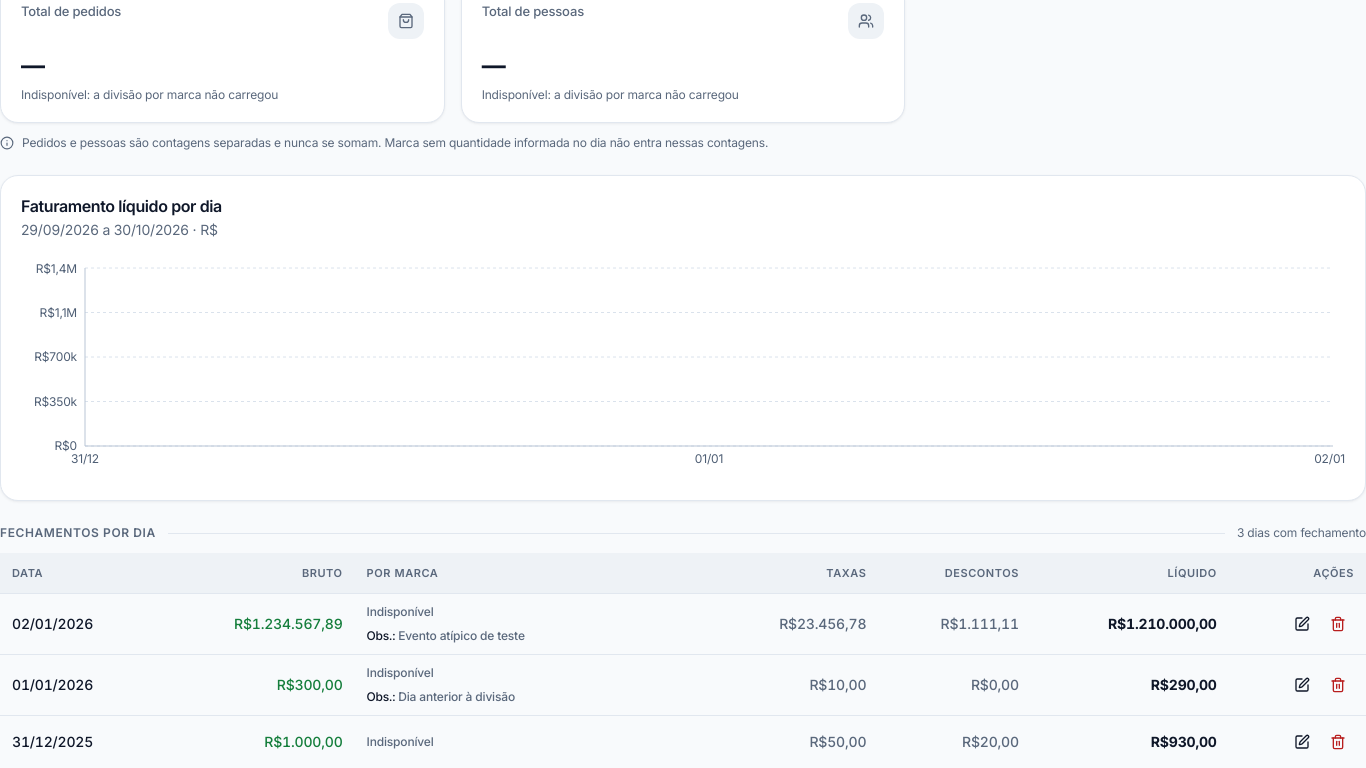
Test: Fechamento de Caixa (V2) › divisão por marca indisponível: pedidos e pessoas viram "—", nunca zero
(page scrolled)
Expected: the text "—" is shown 2 times, left=21, top=51, right=44, bottom=80; left=482, top=51, right=505, bottom=80
Expected: the text "Indisponível: a divisão por marca não carregou" is shown 2 times, left=21, top=87, right=278, bottom=102; left=482, top=87, right=739, bottom=102
Note: Edição nesse estado avisa que salvar regravaria o dia sem o detalhamento (PF-105).
Click the button named "Editar fechamento de 01/01/2026": (1302, 684) left=1286, top=668, right=1318, bottom=700
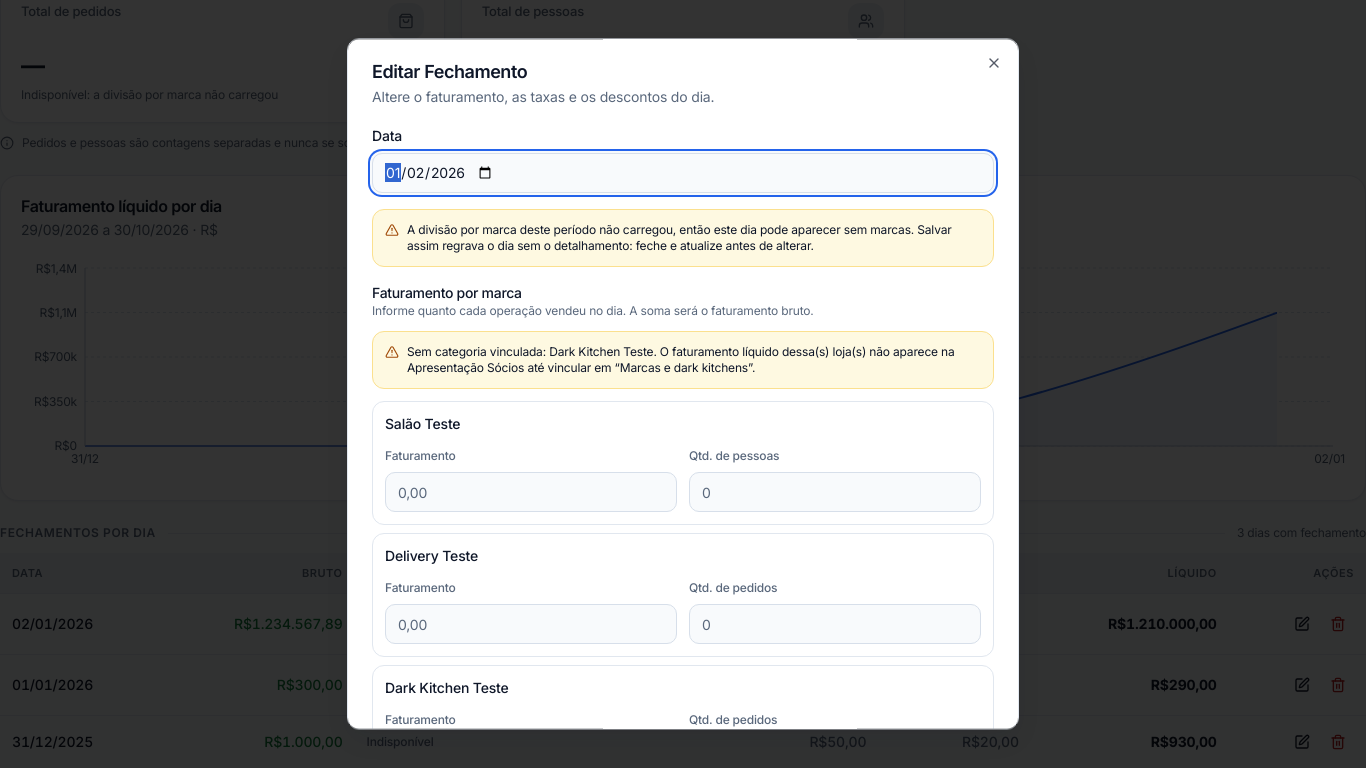
Expected: the text "Salvar assim regrava o dia sem o detalhamento" is shown, left=407, top=222, right=952, bottom=253
